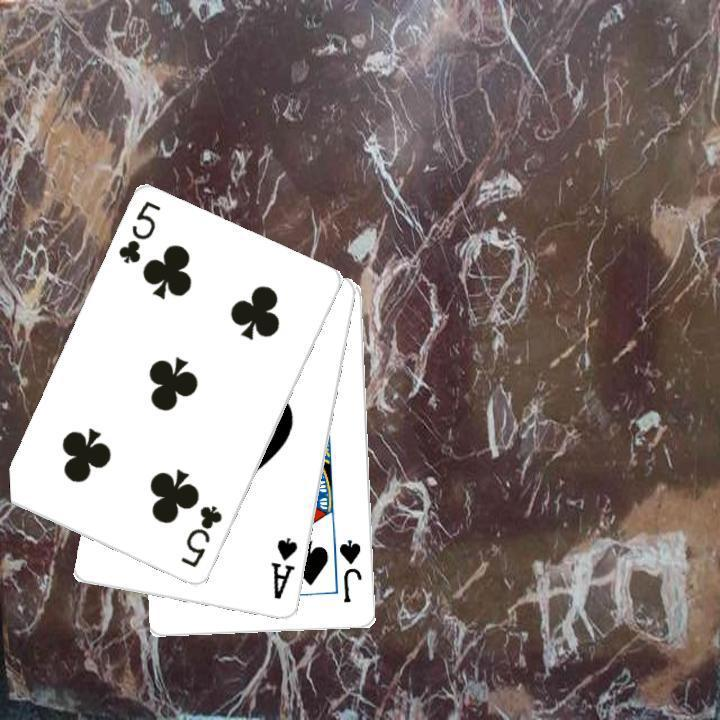5: (176, 502, 225, 571), (114, 197, 163, 266)
A: (267, 534, 300, 602)
J: (335, 535, 365, 605)
